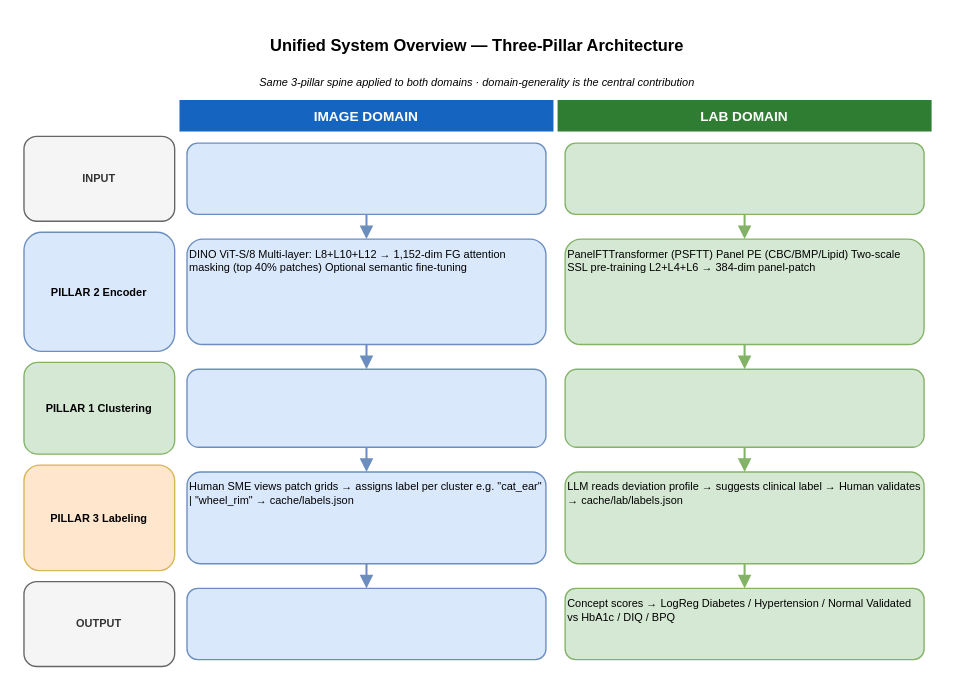
Image size: 955x690. Some labels were removed from this diagram. The box of each missing label's shape, as (x1, y1, x2, y2) in pixels:
Concept scores → LogReg Cat / Car / Bird 3-panel explanation per image: (186, 587, 546, 660)
GMM · 30 clusters PCA 1,152→128 dim Spatial features + smoothing: (186, 368, 546, 447)
NHANES 2013–2018 18,673 records · 34 lab tests CBC (14) · BMP (17) · Lipid (4): (564, 142, 924, 214)
Oxford Pets / Stanford Cars / CUB-200 ~14,000 images · 3 classes · 224×224: (186, 142, 546, 214)
Per-panel GMM · 3×10=30 clusters PCA 34→20 dim Separate clusterer per panel: (564, 368, 924, 447)
